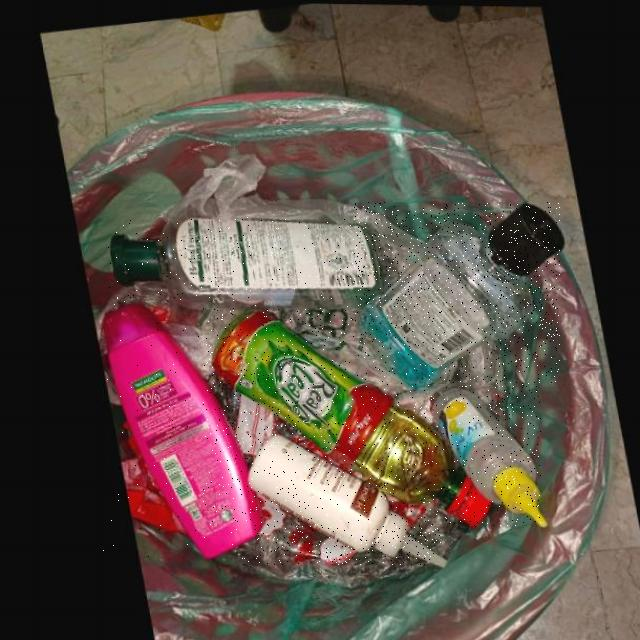plastic: (204, 309, 484, 525), (97, 304, 255, 558), (354, 203, 560, 389), (243, 433, 441, 565), (108, 218, 378, 309), (423, 385, 541, 528)
